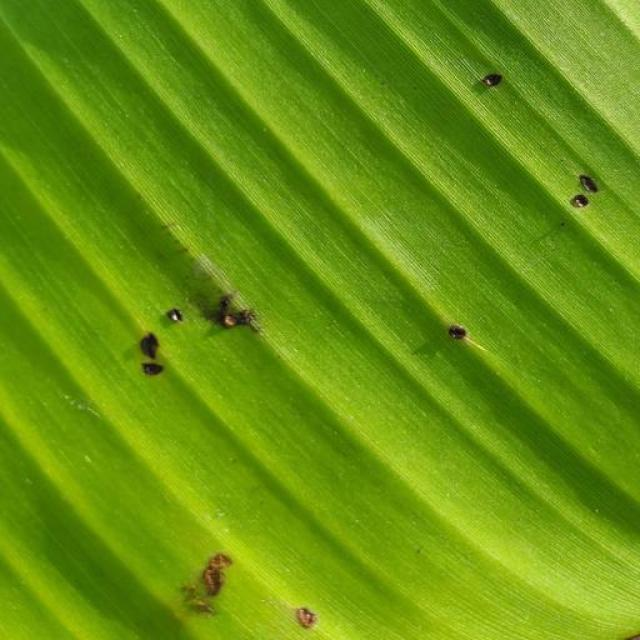Black_rot: (117, 283, 281, 387), (161, 554, 251, 634), (418, 311, 516, 356), (460, 54, 516, 112), (558, 160, 608, 220), (280, 597, 339, 640)
